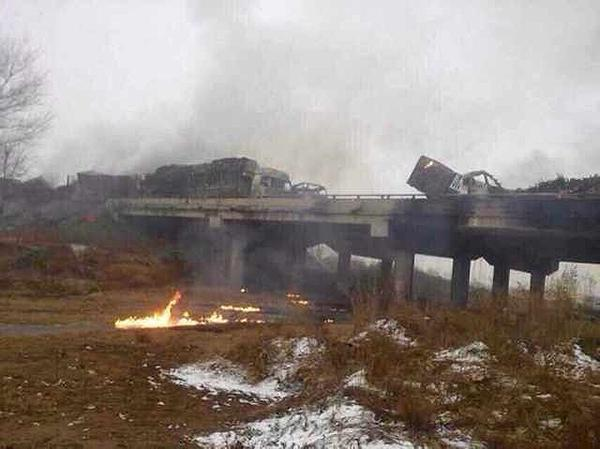fire: (105, 269, 347, 339)
